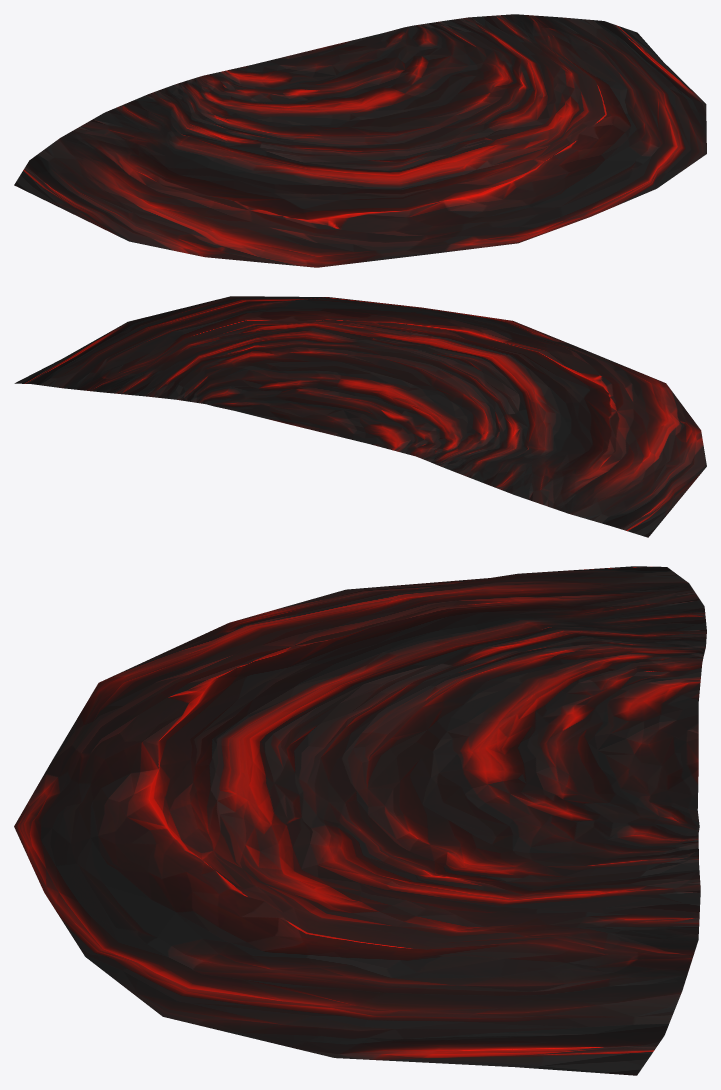
The model's file is SM_Env_Lava_Spread_02.fbx.
3 views of the same model, one above another, from view 1: azimuth 30°, elevation 25°; view 2: azimuth 150°, elevation 25°; view 3: azimuth 270°, elevation 25° (orthographic). The views are drawn at different scales.
Parts seen in each view (by area): view 1: SM_Env_Lava_Spread_02; view 2: SM_Env_Lava_Spread_02; view 3: SM_Env_Lava_Spread_02.
Part boxes in pixels (box(x1,y1,x2,y2)): SM_Env_Lava_Spread_02: box(14, 14, 706, 267); SM_Env_Lava_Spread_02: box(14, 296, 706, 537); SM_Env_Lava_Spread_02: box(14, 566, 706, 1075).
Size of the model in its own units: 1099 by 73.74 by 632.
Materials: 1 (1 with a texture image).
